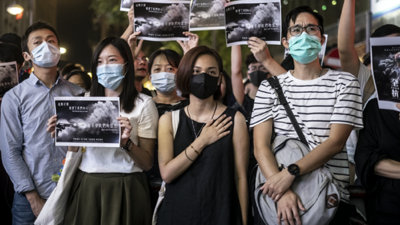with_mask: (288, 21, 322, 65), (188, 65, 221, 103), (95, 53, 126, 91), (29, 34, 62, 68), (151, 62, 177, 94), (249, 65, 272, 88)
